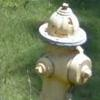Hydrant: (26, 3, 95, 97)
